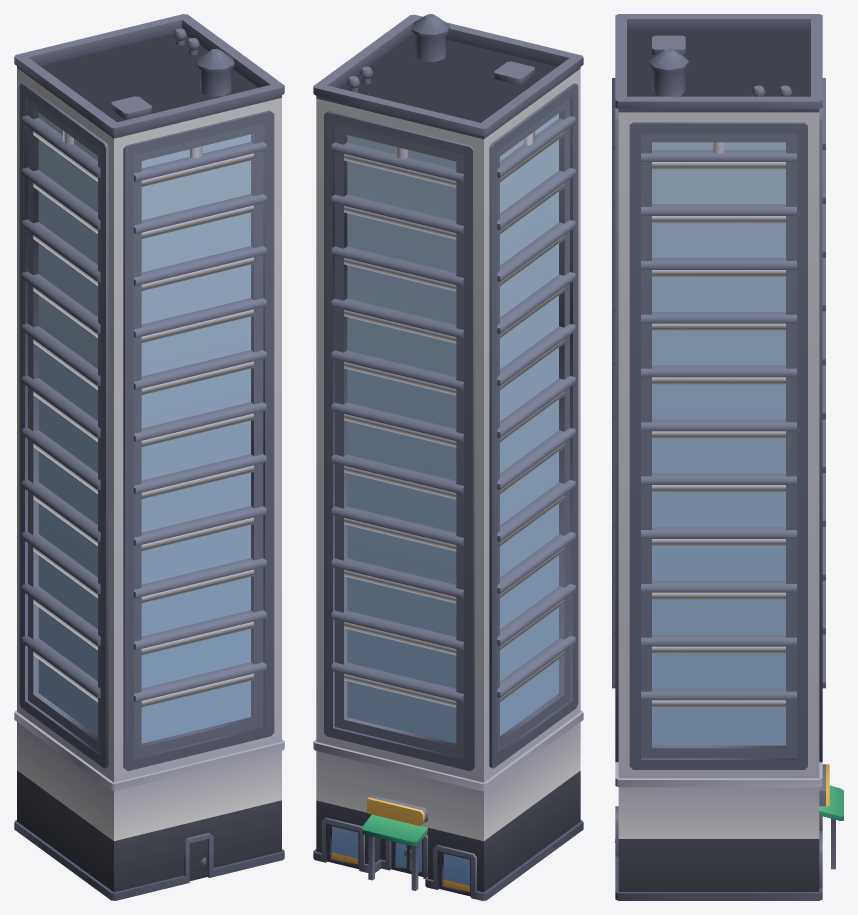
Rendered from building-skyscraper-d.glb.
3 renders of one model, left to right at view 1: azimuth 30°, elevation 25°; view 2: azimuth 150°, elevation 25°; view 3: azimuth 270°, elevation 25°, orthographic. The views are drawn at different scales.
Parts seen in each view (by area): view 1: building-skyscraper-d; view 2: building-skyscraper-d; view 3: building-skyscraper-d.
Boxes of the visible parts, x1,y1,x2,y2 form: building-skyscraper-d: (14,14,284,900); building-skyscraper-d: (313,14,583,900); building-skyscraper-d: (612,14,843,900).
Size of the model in its own units: 1.28 by 5.47 by 1.39.
1 material, 1 textured.
